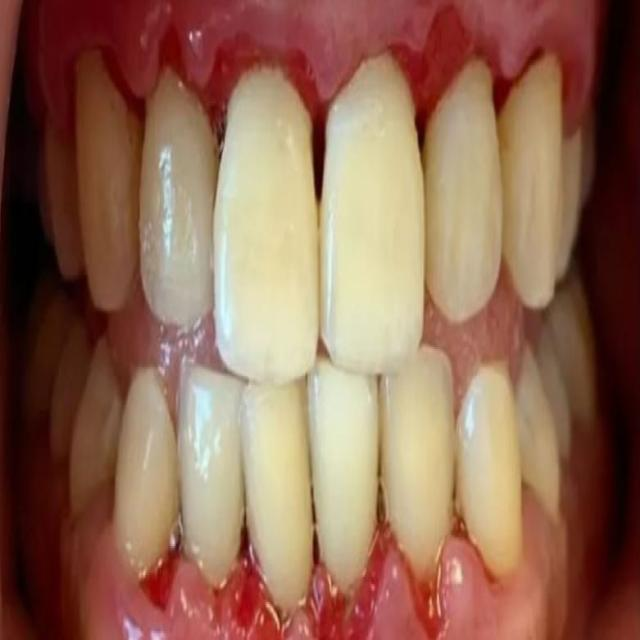1st Molar: (547, 264, 599, 436), (22, 280, 75, 414)
1st Premolar: (69, 340, 123, 508), (516, 349, 562, 524), (43, 128, 84, 280), (558, 128, 590, 281)
2nd Premolar: (50, 331, 92, 459), (537, 329, 573, 468)
Canine: (73, 49, 143, 311), (497, 49, 563, 311), (455, 365, 523, 584), (114, 369, 180, 577)
Central Incisor: (212, 67, 320, 385), (320, 54, 424, 374), (239, 381, 314, 620), (308, 360, 380, 589)
Lateral Incisor: (424, 60, 503, 325), (139, 69, 216, 329), (381, 349, 454, 591), (177, 363, 246, 588)
